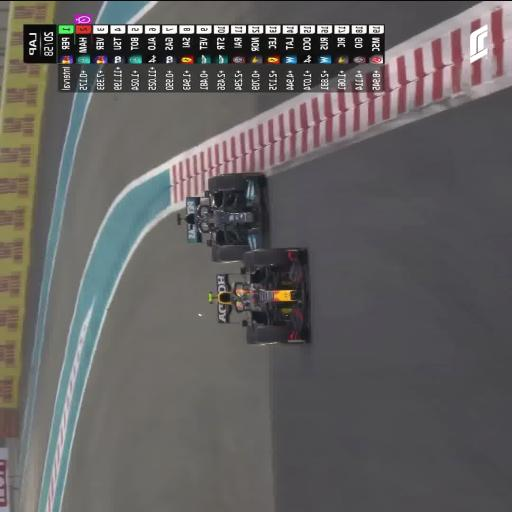f1_car: (209, 246, 308, 345), (177, 172, 265, 261)
